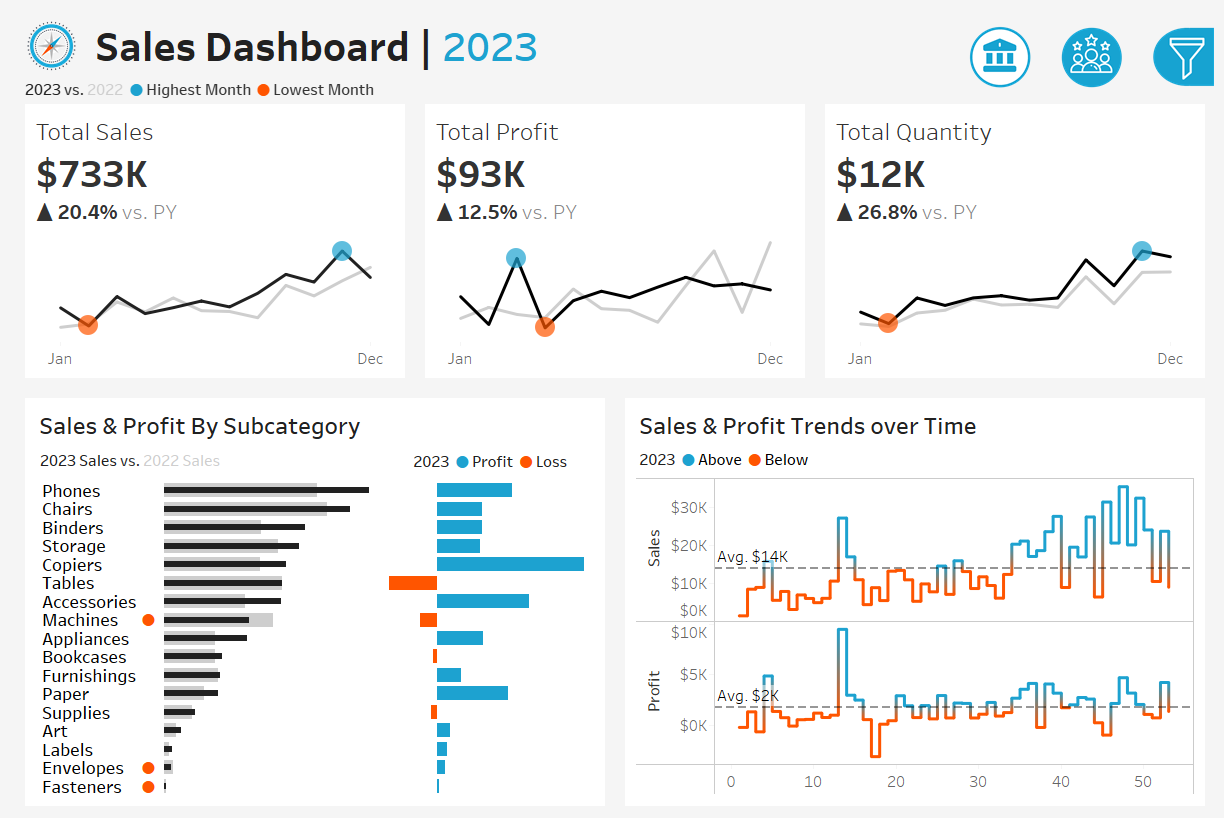

The dashboard page shown, as its layout file describes it:
{"tool":"tableau","page":{"name":"Sales Dashboard","canvas":[1200,800],"ordinal":1},"visuals":[{"type":"image","param":"Image/Icon - Logo.png","box":[0,0,73,59]},{"type":"text","box":[73,0,820,59]},{"type":"dashboard-object","box":[940,6,91,70]},{"type":"dashboard-object","box":[1031,6,91,70]},{"type":"blank","box":[952,10,237,86]},{"type":"worksheet","title":"Legend KPI","mark":"Automatic","box":[0,59,1200,29]},{"type":"worksheet","title":"KPI Sales","mark":"Automatic","rows":["Calculation_721701895347843083"],"cols":["Order Date"],"box":[0,88,400,284]},{"type":"worksheet","title":"KPI Profit","mark":"Automatic","rows":["Min/Max Sales (copy)_237846410425847814"],"cols":["Order Date"],"box":[400,88,400,284]},{"type":"worksheet","title":"KPI Quantity","mark":"Automatic","rows":["Min/Max Sales (copy) (copy)_237846410425856007"],"cols":["Order Date"],"box":[800,88,400,284]},{"type":"text","box":[952,96,237,40]},{"type":"parameter","param":"[Parameters].[Parameter 1]","box":[952,136,237,56]},{"type":"text","box":[952,192,237,33]},{"type":"filter","title":"KPI Sales","param":"[federated.1kpxa041aiai2y1cl4pui1t4eju9].[none:Category:nk]","box":[952,225,237,61]},{"type":"filter","title":"KPI Sales","param":"[federated.1kpxa041aiai2y1cl4pui1t4eju9].[none:Sub-Category:nk]","box":[952,286,237,61]},{"type":"blank","box":[952,347,237,60]},{"type":"text","box":[17,389,566,40]},{"type":"text","box":[617,389,566,40]},{"type":"text","box":[952,407,237,33]},{"type":"worksheet","title":"Legend Subcategory","mark":"Automatic","box":[17,429,374,32]},{"type":"text","box":[391,429,192,32]},{"type":"text","box":[617,429,566,29]},{"type":"filter","title":"KPI Sales","param":"[federated.1kpxa041aiai2y1cl4pui1t4eju9].[none:Region:nk]","box":[952,440,237,61]},{"type":"worksheet","title":"Weekly Trends","mark":"Automatic","rows":["Calculation_721701895334993921","CY Sales (copy)_237846410424180736"],"cols":["Order Date"],"box":[617,458,566,325]},{"type":"worksheet","title":"Subcategory Comparison","mark":"Bar","rows":["Sub-Category","Calculation_2435040078806671369"],"cols":["CY Sales (copy)_721701895335804930","Calculation_721701895334993921","CY Sales (copy)_237846410424180736"],"box":[17,461,566,321.9]},{"type":"filter","title":"KPI Sales","param":"[federated.1kpxa041aiai2y1cl4pui1t4eju9].[none:State:nk]","box":[952,501,237,61]},{"type":"filter","title":"KPI Sales","param":"[federated.1kpxa041aiai2y1cl4pui1t4eju9].[none:City:nk]","box":[952,562,237,61]}]}

Visuals, with their boxes in screenshot pixels (x1, y1, x2, y2), scaled from the page's 1200x800 canvas onto the 1224x818 screenshot:
image: [left=0, top=0, right=74, bottom=60]
text: [left=74, top=0, right=911, bottom=60]
dashboard-object: [left=959, top=6, right=1052, bottom=78]
dashboard-object: [left=1052, top=6, right=1144, bottom=78]
blank: [left=971, top=10, right=1213, bottom=98]
"Legend KPI" worksheet: [left=0, top=60, right=1223, bottom=90]
"KPI Sales" worksheet: [left=0, top=90, right=408, bottom=380]
"KPI Profit" worksheet: [left=408, top=90, right=816, bottom=380]
"KPI Quantity" worksheet: [left=816, top=90, right=1223, bottom=380]
text: [left=971, top=98, right=1213, bottom=139]
parameter: [left=971, top=139, right=1213, bottom=196]
text: [left=971, top=196, right=1213, bottom=230]
"KPI Sales" filter: [left=971, top=230, right=1213, bottom=292]
"KPI Sales" filter: [left=971, top=292, right=1213, bottom=355]
blank: [left=971, top=355, right=1213, bottom=416]
text: [left=17, top=398, right=595, bottom=439]
text: [left=629, top=398, right=1207, bottom=439]
text: [left=971, top=416, right=1213, bottom=450]
"Legend Subcategory" worksheet: [left=17, top=439, right=399, bottom=471]
text: [left=399, top=439, right=595, bottom=471]
text: [left=629, top=439, right=1207, bottom=468]
"KPI Sales" filter: [left=971, top=450, right=1213, bottom=512]
"Weekly Trends" worksheet: [left=629, top=468, right=1207, bottom=801]
"Subcategory Comparison" worksheet (Bar marks): [left=17, top=471, right=595, bottom=801]
"KPI Sales" filter: [left=971, top=512, right=1213, bottom=575]
"KPI Sales" filter: [left=971, top=575, right=1213, bottom=637]
